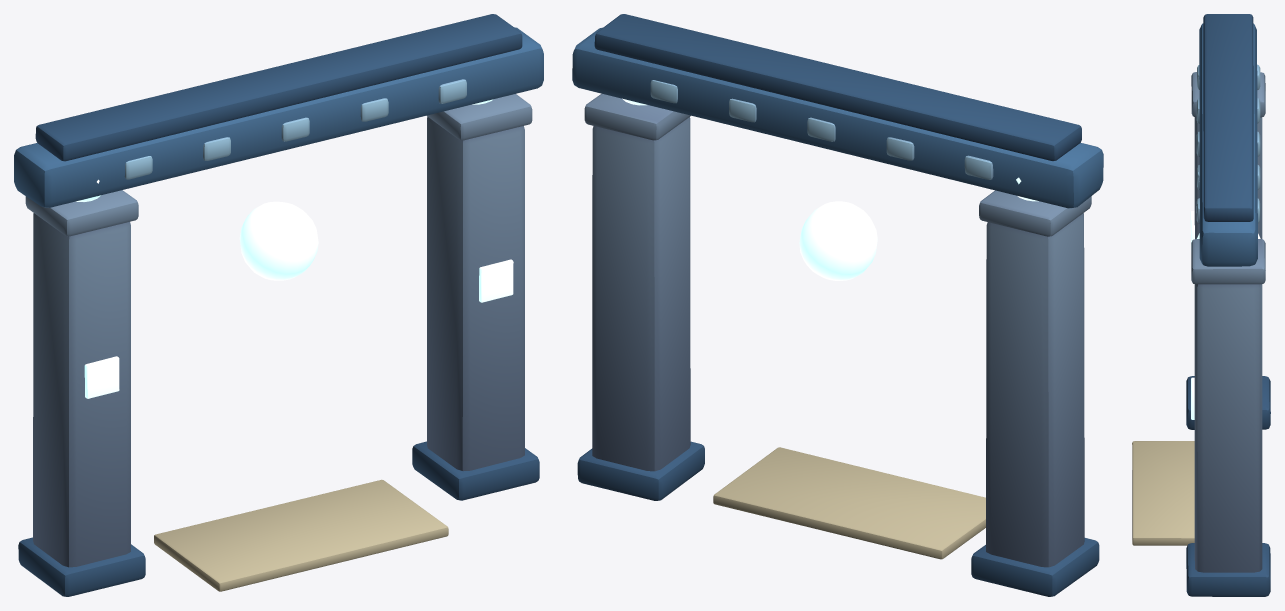
3 renders of one model, left to right at view 1: azimuth 30°, elevation 25°; view 2: azimuth 150°, elevation 25°; view 3: azimuth 270°, elevation 25°, orthographic. The views are drawn at different scales.
Parts seen in each view (by area): view 1: gate_6e493787; view 2: gate_6e493787; view 3: gate_6e493787.
Part boxes in pixels (bbox=[...]): gate_6e493787: bbox=[14, 14, 543, 596]; gate_6e493787: bbox=[572, 14, 1103, 596]; gate_6e493787: bbox=[1132, 14, 1270, 596].
Size of the model in its own units: 5.27 by 4.45 by 1.44.
